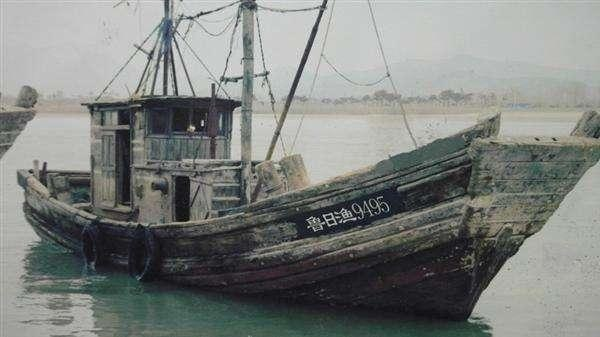otherboat: (13, 68, 593, 319)
